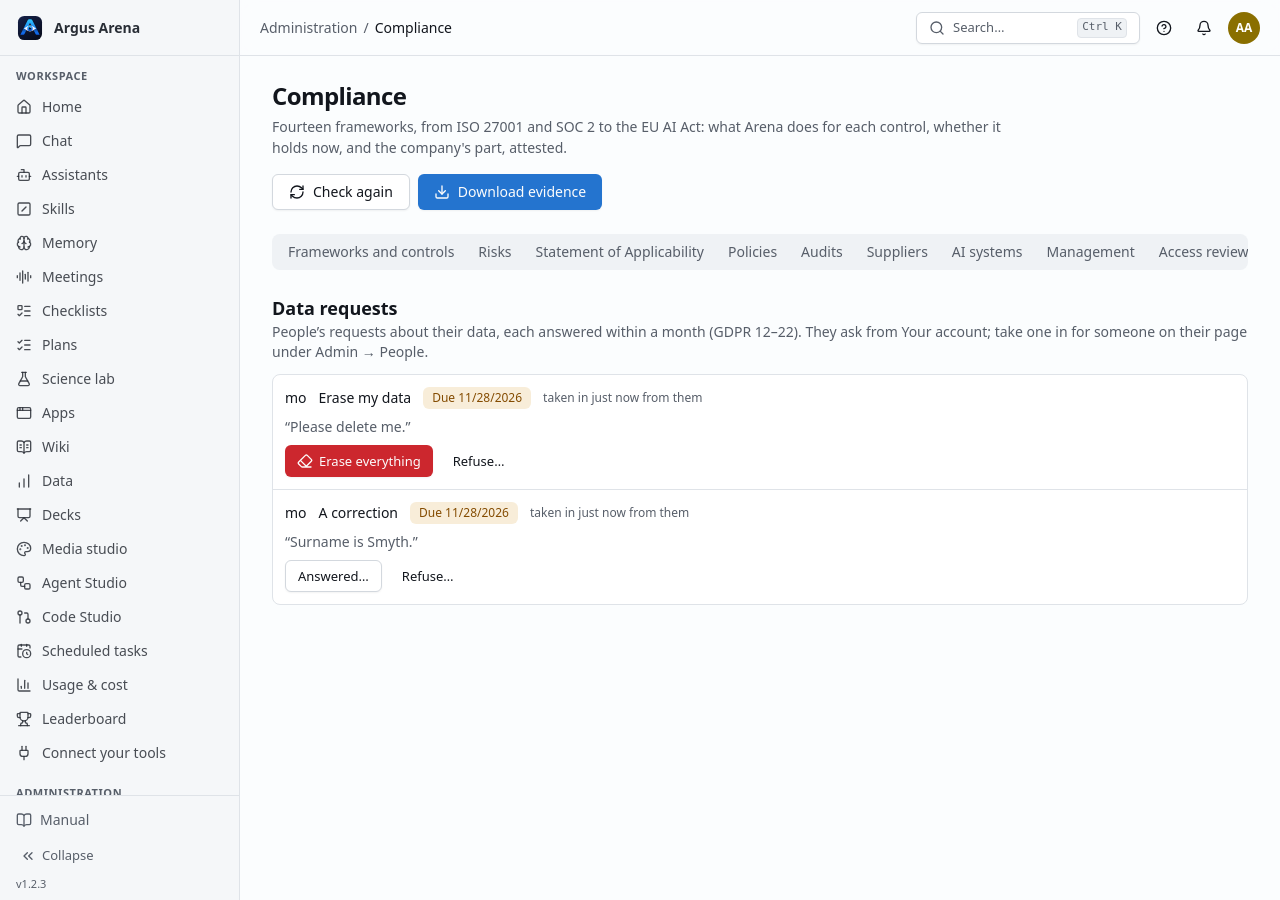
Scenario: data requests › an admin erases after a clear yes, and answers others with what was done
Click the button "Erase everything" at (359, 461), box [285,445,433,477]
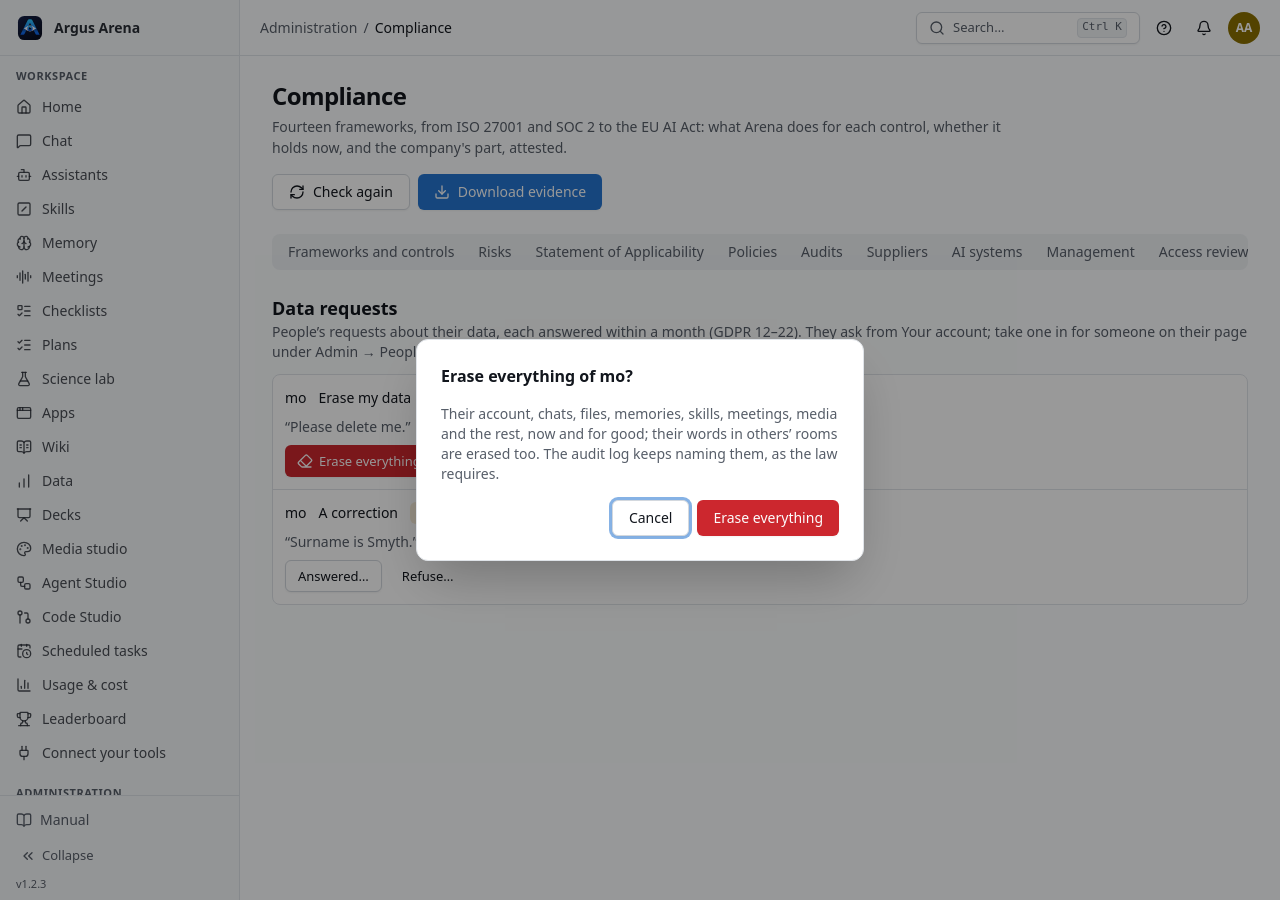
Check: the dialog shows "The audit log keeps naming them", box [441,404,837,483]
Click the button "Erase everything" at (768, 518), box [698,500,839,536]
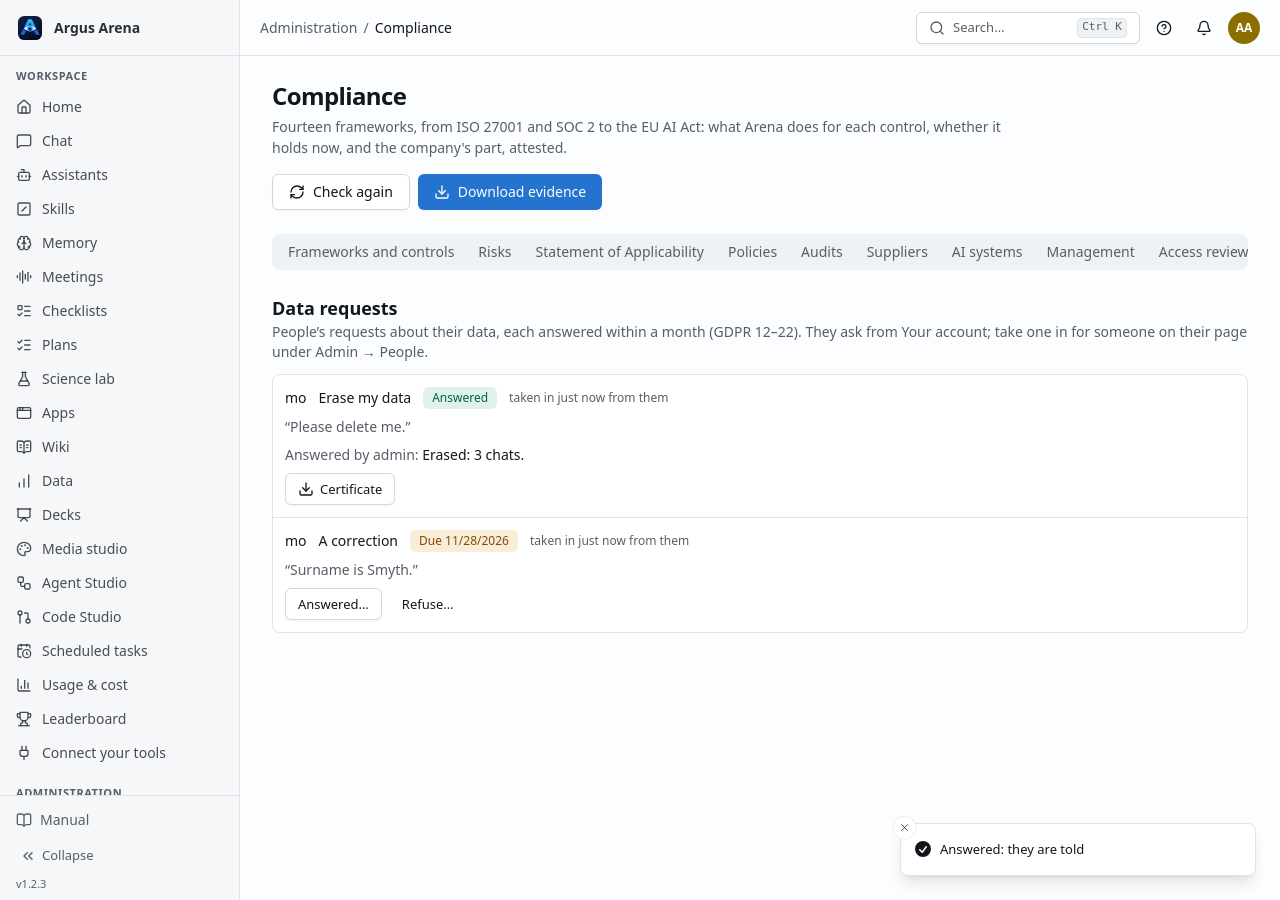
Click the button "Answered…" at (333, 604), box [285,588,382,620]
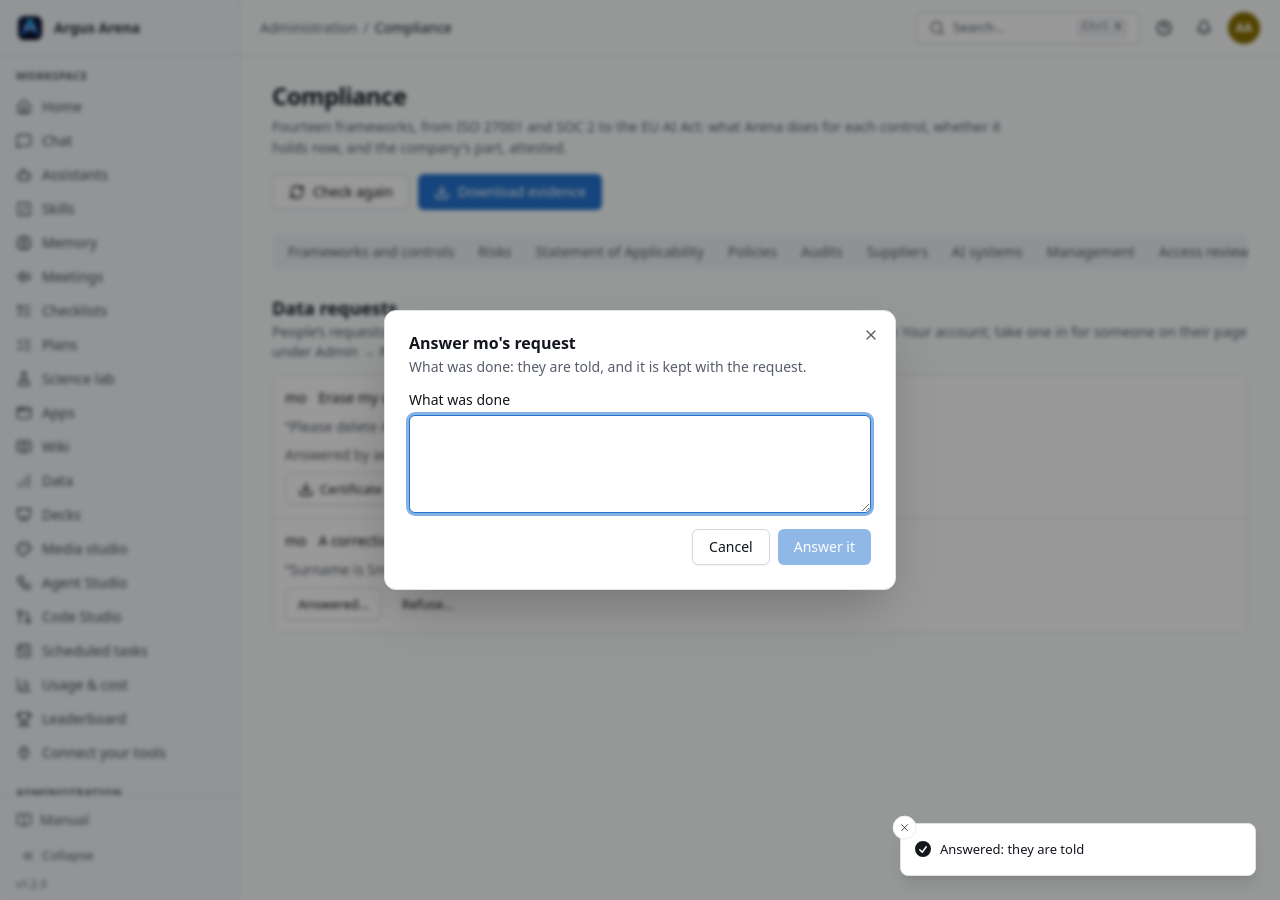
Type "Profile corrected." into the text box labelled "What was done" at (640, 464), box [409,415,871,513]
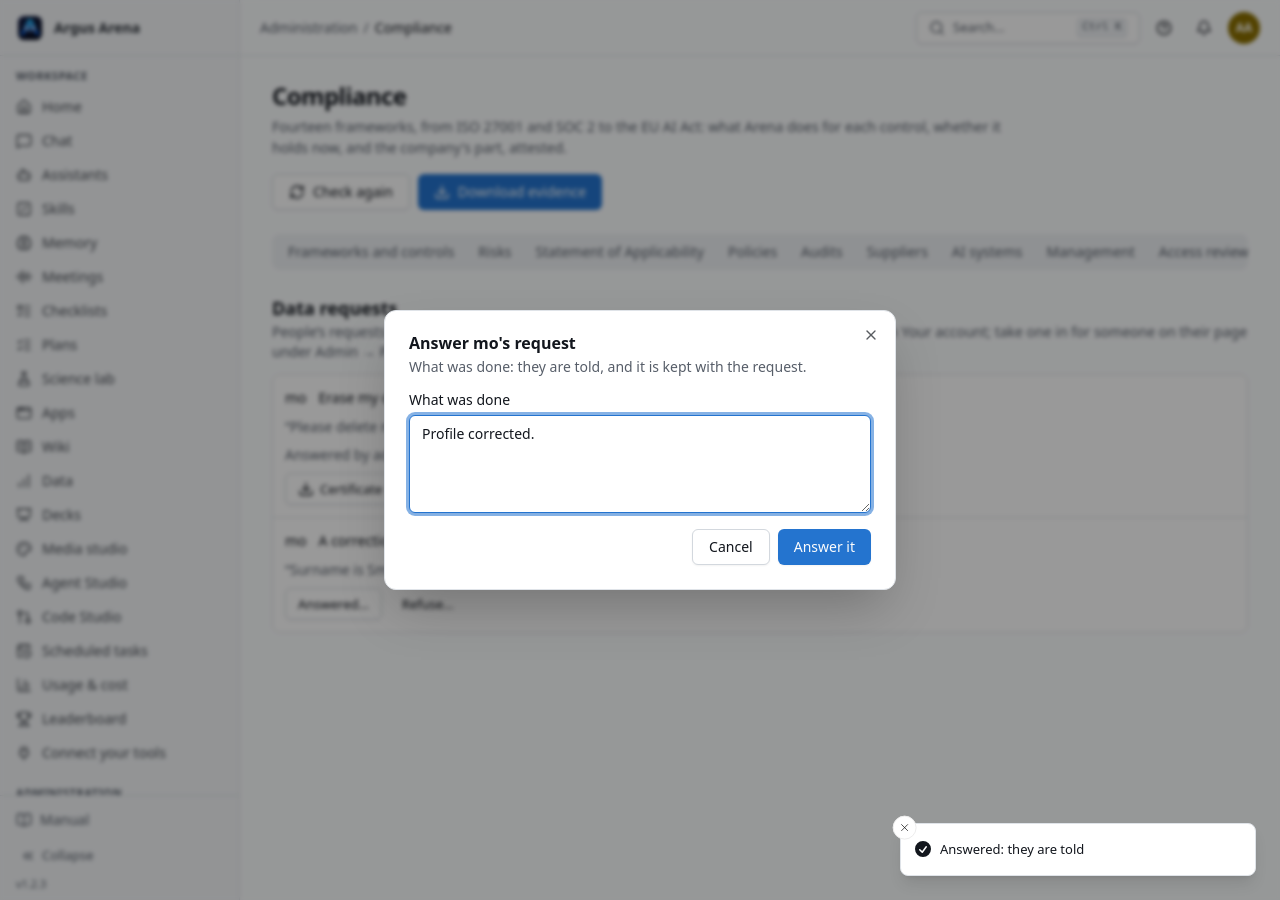
Click the button "Answer it" at (824, 547), box [778,529,871,565]
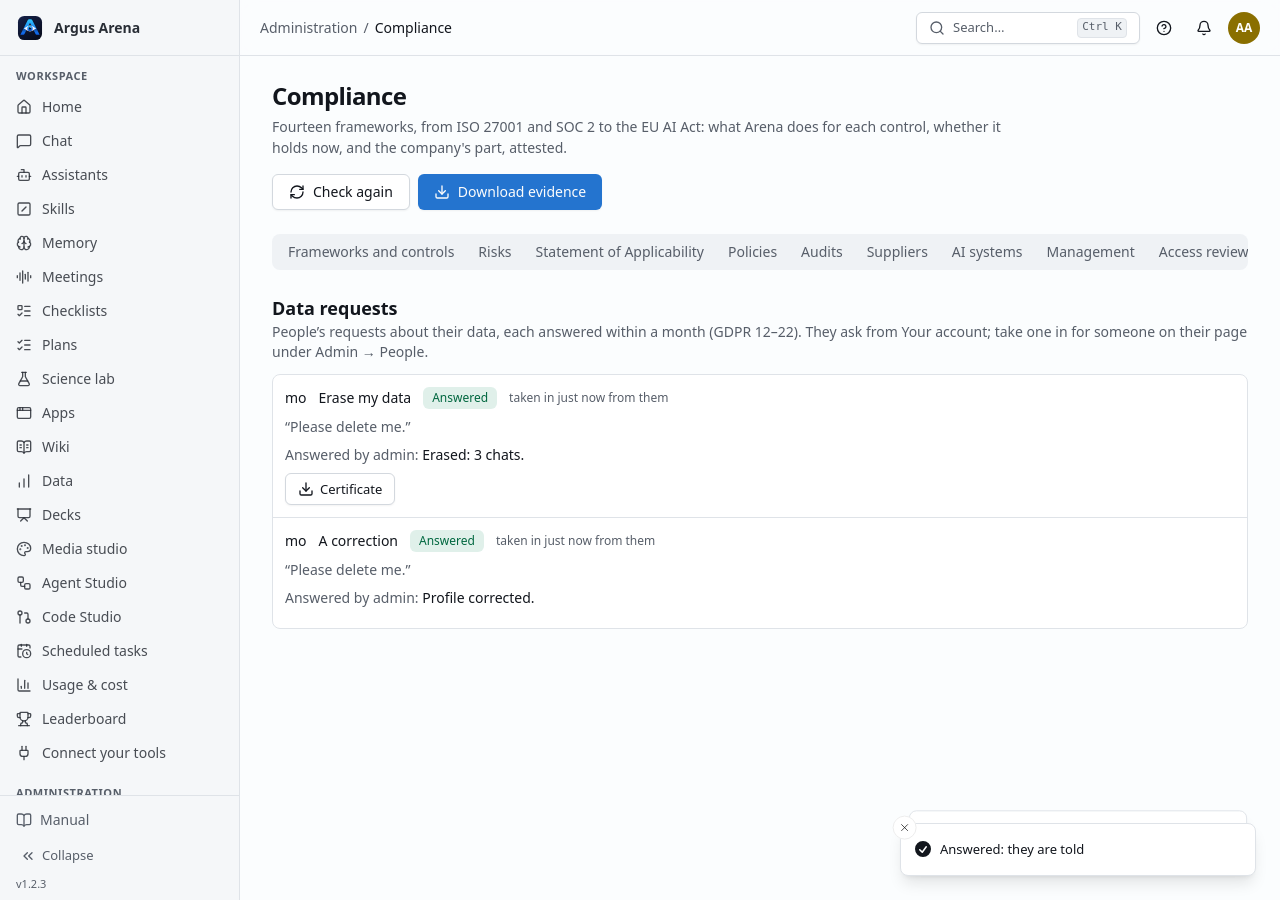
Check: the text "Profile corrected." is shown, box [422,588,535,607]
